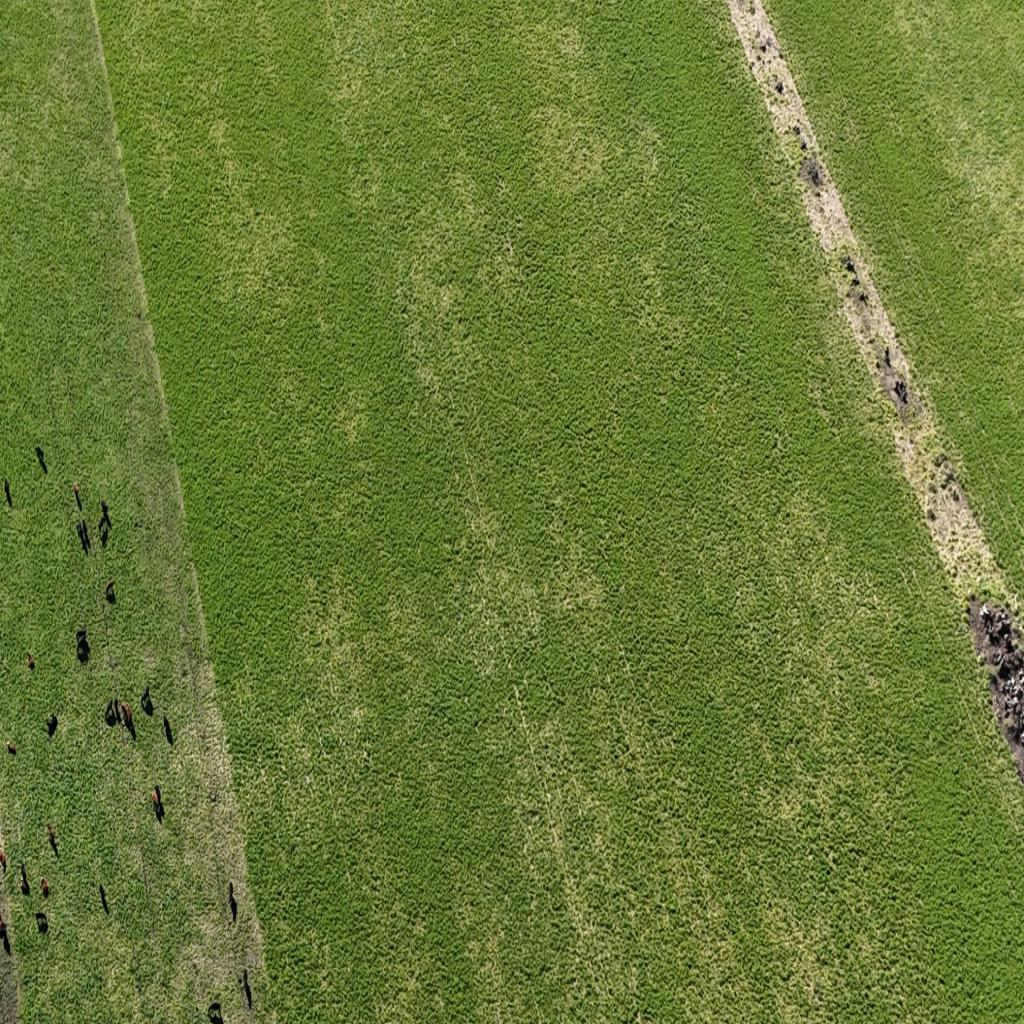cow: (242, 968, 252, 1009), (228, 882, 238, 922), (163, 714, 173, 746), (36, 909, 48, 935), (99, 882, 108, 914), (48, 825, 58, 852), (46, 714, 57, 738), (20, 870, 30, 896), (4, 478, 12, 508), (140, 684, 150, 707), (152, 786, 162, 809), (0, 850, 8, 874), (73, 483, 81, 506), (208, 1002, 221, 1015), (41, 877, 49, 898), (26, 650, 35, 668), (105, 578, 115, 594), (77, 634, 85, 652), (101, 498, 109, 516), (97, 516, 106, 532), (35, 445, 44, 461), (105, 698, 113, 716), (8, 741, 16, 756), (127, 705, 132, 727), (122, 701, 128, 717), (82, 519, 88, 534), (114, 696, 118, 716)
